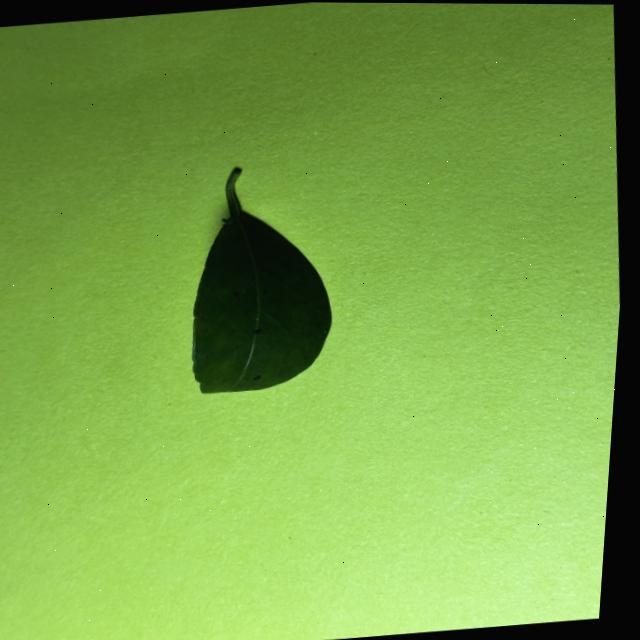greening: (192, 168, 330, 392)
